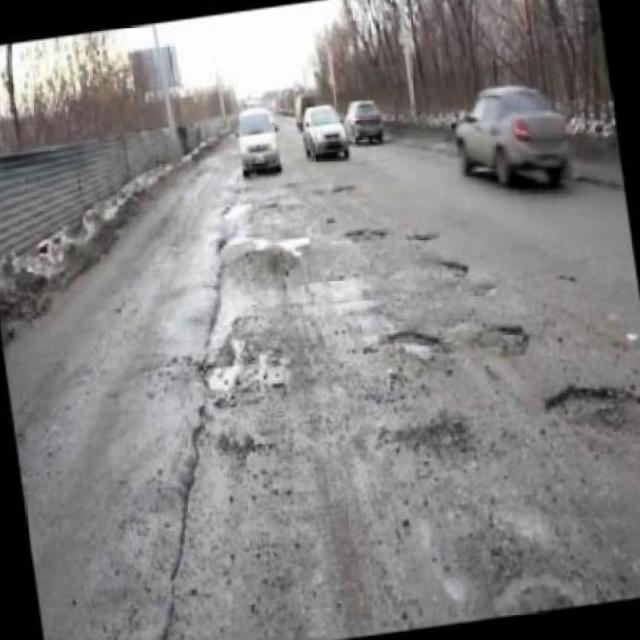Pothole: (545, 387, 640, 421), (471, 323, 530, 358), (378, 331, 444, 360)
